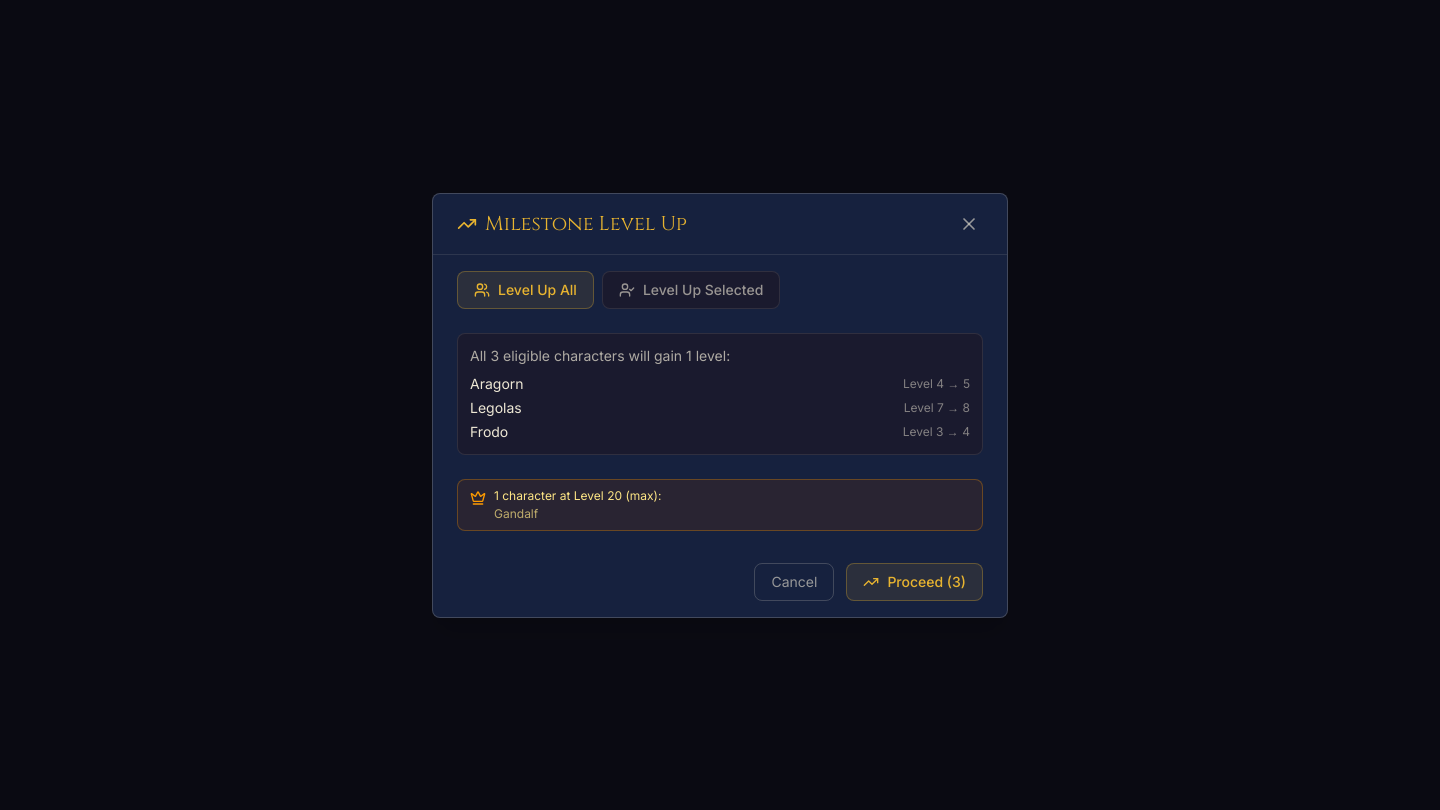
Test: MilestoneLevelUp › should display confirmation dialog for Level Up All
Click Proceed
Click the button with test id "proceed-button": point(915, 582) [846,562,983,600]
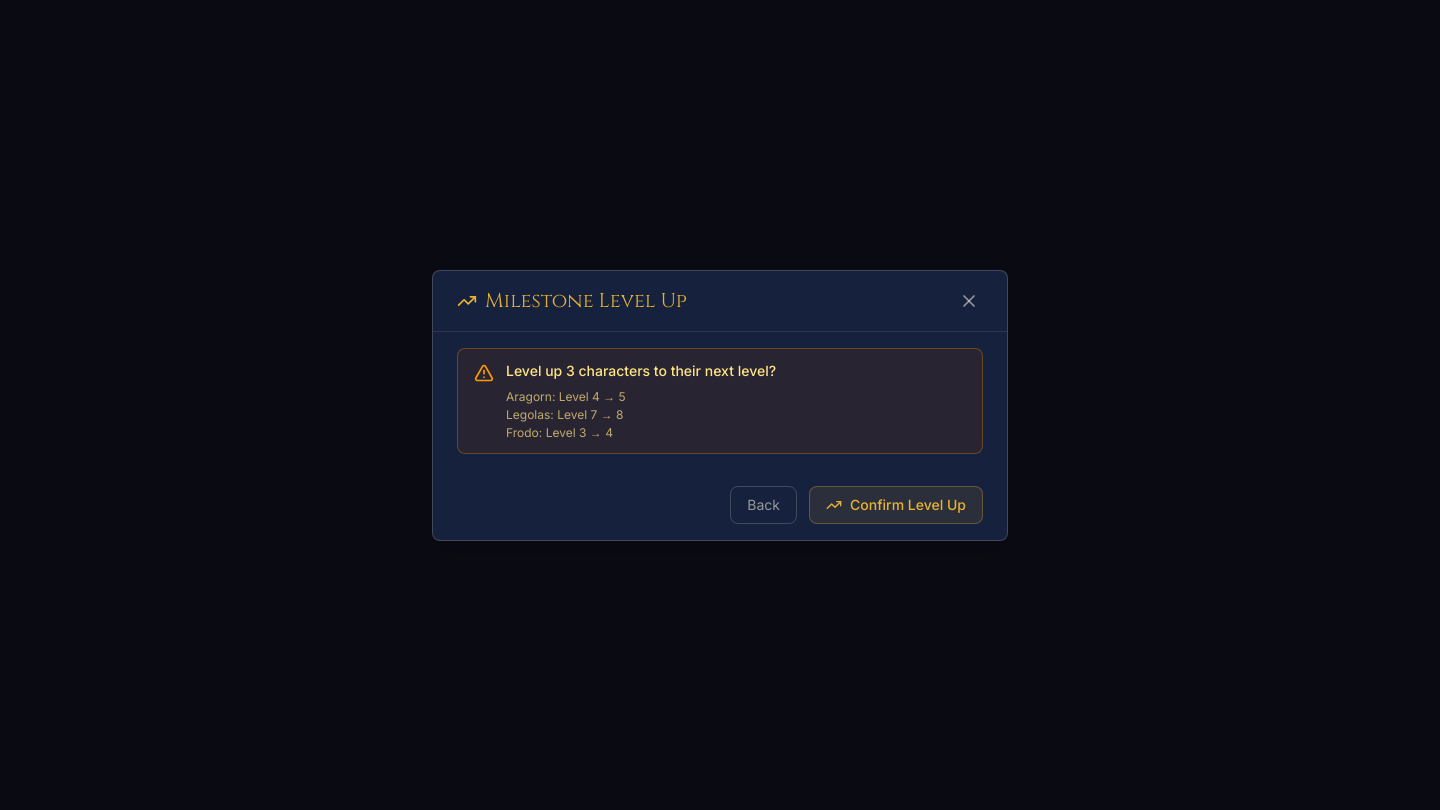
Expected: the text "Level up 3 characters to their next level?" is shown, [506,360,776,380]
